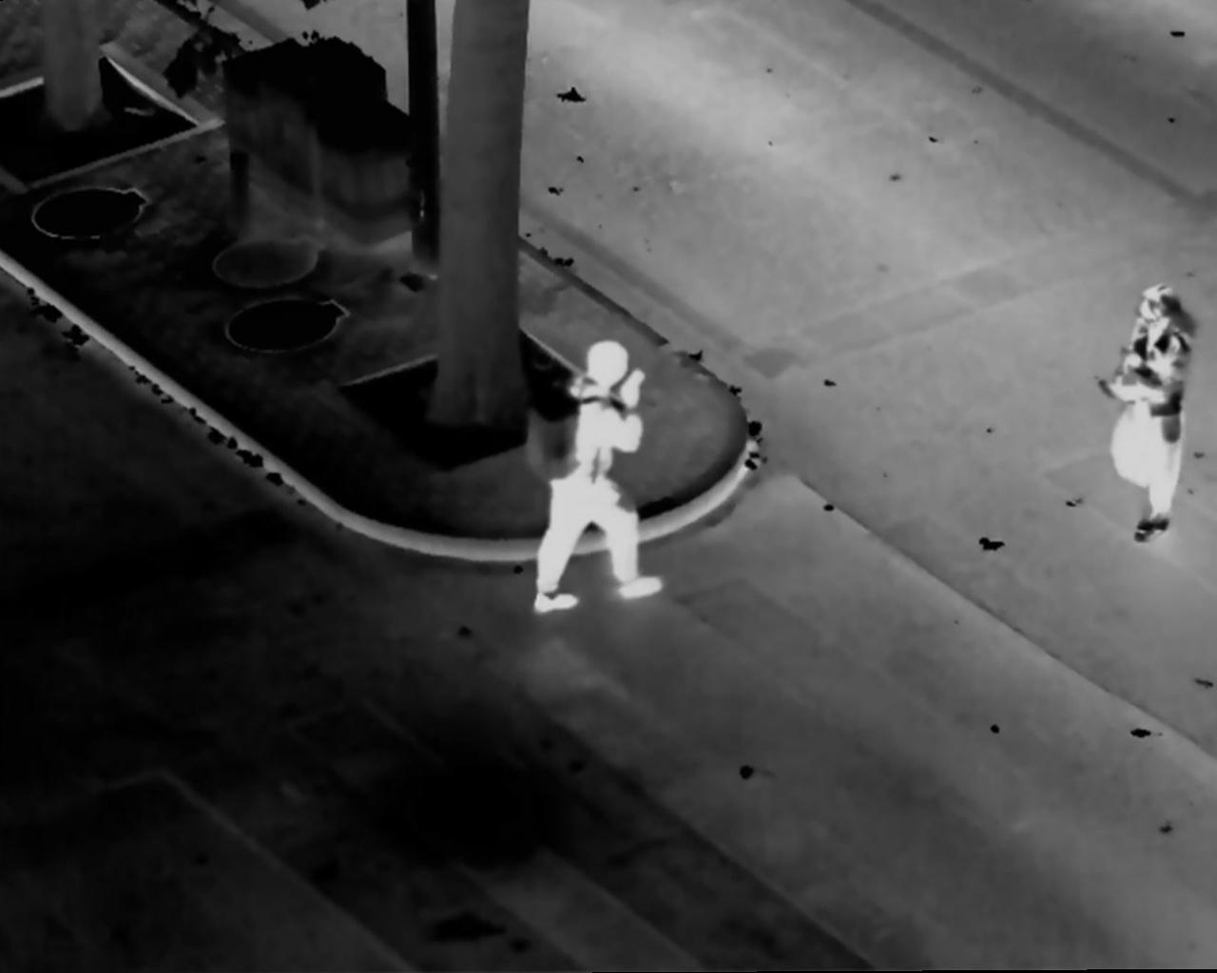person: (531, 336, 676, 617), (1098, 281, 1202, 553)
